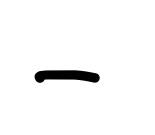minus: (35, 69, 100, 83)
